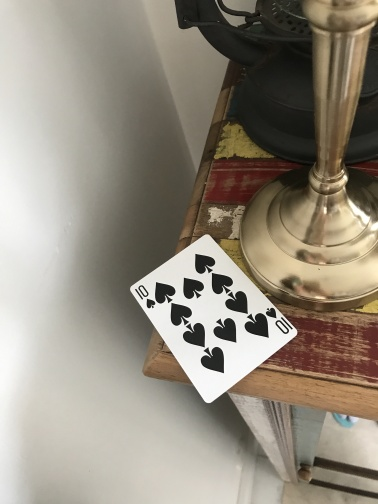ten: (128, 233, 298, 406)
